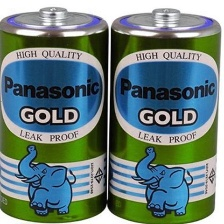battery: (104, 5, 222, 224), (0, 3, 111, 224)
